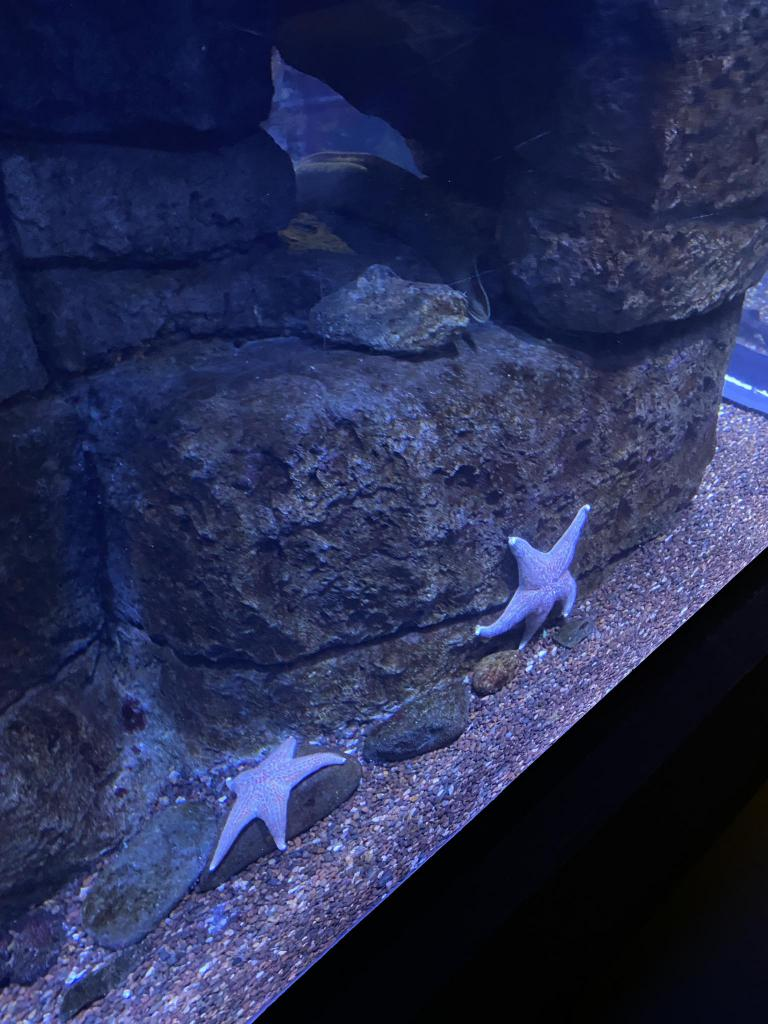starfish: (210, 738, 346, 868), (475, 502, 590, 648)
